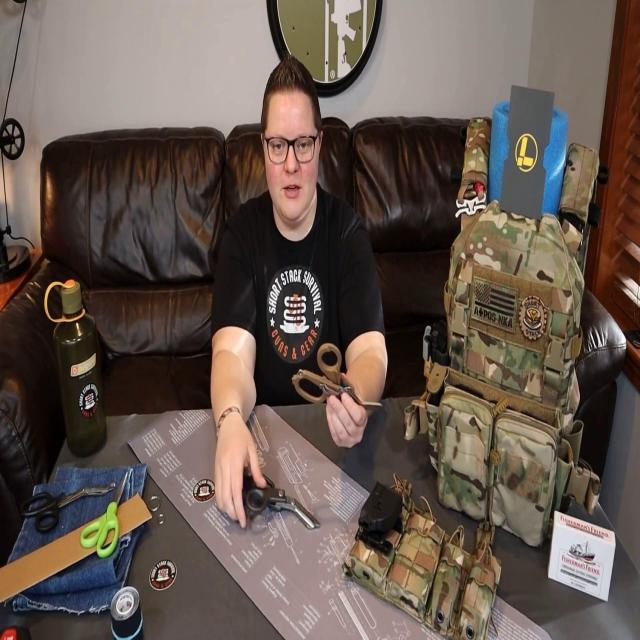scissor: (293, 341, 384, 411), (19, 481, 116, 534), (246, 472, 320, 531), (81, 470, 128, 558)
